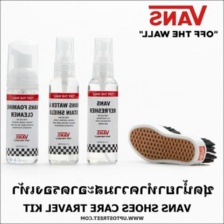cleaning_solution: (83, 32, 121, 167), (3, 38, 41, 167), (45, 33, 81, 167)
